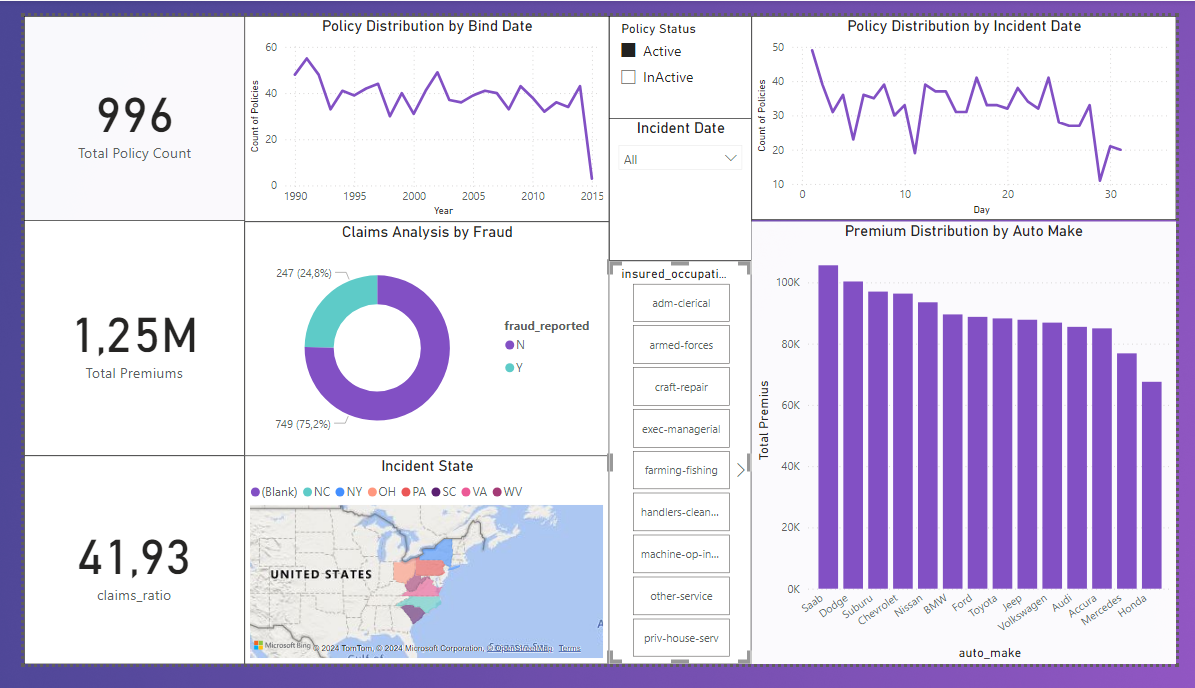

The dashboard page shown, as its layout file describes it:
{"tool":"powerbi","page":{"name":"Page 1","canvas":[1280,720],"ordinal":0},"visuals":[{"type":"card","fields":{"Values":["CountNonNull(clean_insurance_claims csv.policy_status)"]},"box":[0,0,245.7,227.1],"z":0},{"type":"card","fields":{"Values":["Sum(clean_insurance_claims csv.policy_annual_premium)"]},"box":[0,226.7,245,261.7],"z":1000},{"type":"card","fields":{"Values":["clean_insurance_claims csv.claims_ratio"]},"box":[0,488.3,245,231.7],"z":2000},{"type":"lineChart","title":"Policy Distribution by Bind Date","fields":{"Category":["clean_insurance_claims csv.policy_bind_date.Variation.Date Hierarchy.Year"],"Y":["Count(clean_insurance_claims csv.policy_number)"]},"box":[245,0,405,228.3],"z":3000},{"type":"donutChart","title":"Claims Analysis by Fraud","fields":{"Category":["clean_insurance_claims csv.fraud_reported","clean_insurance_claims csv.incident_date.Variation.Date Hierarchy.Quarter"],"Y":["CountNonNull(clean_insurance_claims csv.fraud_reported)"]},"box":[245,228.3,405,261.7],"z":4000},{"type":"slicer","fields":{"Values":["clean_insurance_claims csv.policy_status"]},"box":[650,0,158.6,114.3],"z":5000},{"type":"filledMap","title":"Incident State","fields":{"Category":["clean_insurance_claims csv.incident_state"],"Series":["clean_insurance_claims csv.incident_state"]},"box":[245,488.3,405,231.7],"z":6000},{"type":"slicer","fields":{"Values":["clean_insurance_claims csv.insured_occupation"]},"box":[650,271.4,158.6,448.6],"z":6002},{"type":"slicer","title":"Incident Date","fields":{"Values":["clean_insurance_claims csv.incident_date.Variation.Date Hierarchy.Year","clean_insurance_claims csv.incident_date.Variation.Date Hierarchy.Month"]},"box":[650,113.3,158.3,158.3],"z":6003},{"type":"lineChart","title":"Policy Distribution by Incident Date","fields":{"Y":["Count(clean_insurance_claims csv.policy_number)"],"Category":["clean_insurance_claims csv.incident_date.Variation.Date Hierarchy.Day"]},"box":[808.3,0,471.7,226.7],"z":6004},{"type":"clusteredColumnChart","title":"Premium Distribution by Auto Make","fields":{"Y":["Sum(clean_insurance_claims csv.policy_annual_premium)"],"Category":["clean_insurance_claims csv.auto_make"]},"box":[808.3,228.3,471.7,491.7],"z":6005}]}

Visuals, with their boxes in screenshot pixels (x1, y1, x2, y2), scaled from the page's 1280x720 canvas onto the 1195x688 screenshot:
card - CountNonNull(clean_insurance_claims csv.policy_status): left=0, top=0, right=229, bottom=217
card - Sum(clean_insurance_claims csv.policy_annual_premium): left=0, top=217, right=229, bottom=467
card - clean_insurance_claims csv.claims_ratio: left=0, top=467, right=229, bottom=687
"Policy Distribution by Bind Date" lineChart: left=229, top=0, right=607, bottom=218
"Claims Analysis by Fraud" donutChart: left=229, top=218, right=607, bottom=468
slicer - clean_insurance_claims csv.policy_status: left=607, top=0, right=755, bottom=109
"Incident State" filledMap: left=229, top=467, right=607, bottom=687
slicer - clean_insurance_claims csv.insured_occupation: left=607, top=259, right=755, bottom=687
"Incident Date" slicer: left=607, top=108, right=755, bottom=260
"Policy Distribution by Incident Date" lineChart: left=755, top=0, right=1194, bottom=217
"Premium Distribution by Auto Make" clusteredColumnChart: left=755, top=218, right=1194, bottom=687
